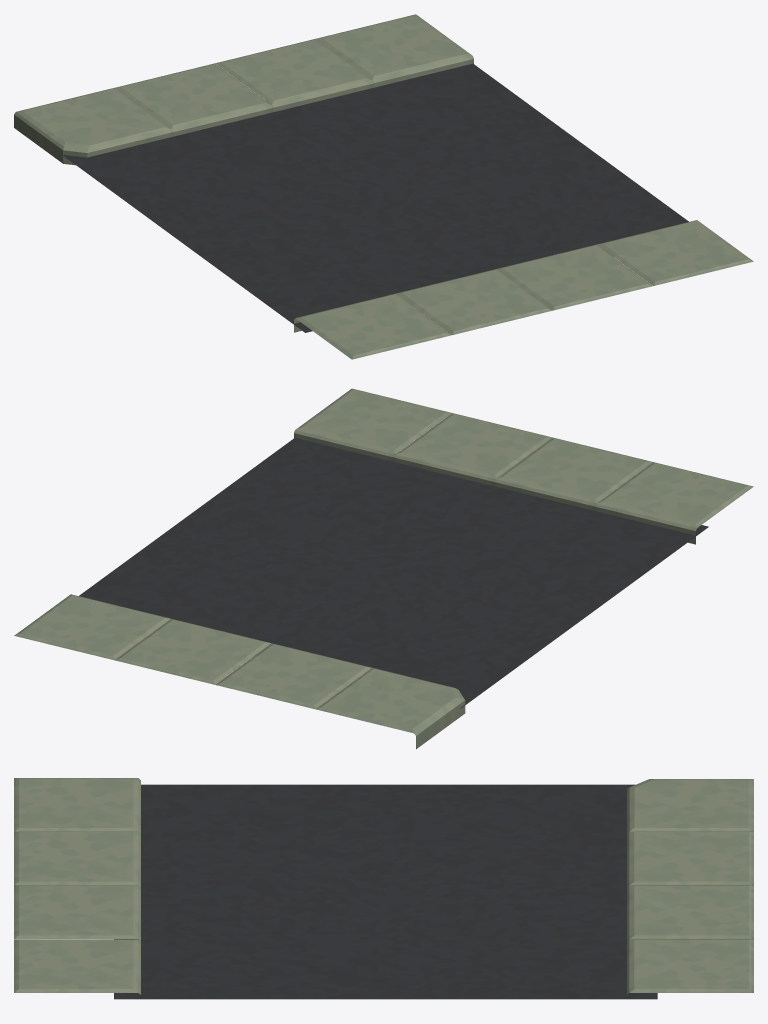
The model's file is RoadTurnRight.fbx.
The picture shows the model from 3 angles, top to bottom: view 1: azimuth 30°, elevation 25°; view 2: azimuth 150°, elevation 25°; view 3: azimuth 270°, elevation 25°; orthographic projection. The views are drawn at different scales.
Visible parts, largest first — view 1: RoadTile, SidewalkStraight, SidewalkCorner; view 2: RoadTile, SidewalkStraight, SidewalkCorner; view 3: RoadTile, SidewalkStraight, SidewalkCorner.
Boxes of the visible parts, x1,y1,x2,y2 form: RoadTile: [57, 63, 688, 332]; SidewalkStraight: [115, 14, 753, 359]; SidewalkCorner: [14, 88, 172, 165]; RoadTile: [79, 438, 708, 708]; SidewalkStraight: [14, 388, 753, 709]; SidewalkCorner: [316, 668, 465, 749]; RoadTile: [114, 784, 657, 999]; SidewalkStraight: [14, 778, 753, 994]; SidewalkCorner: [627, 779, 753, 833].
Bounding box in the file's own units: 802 × 32.73 × 1165.
